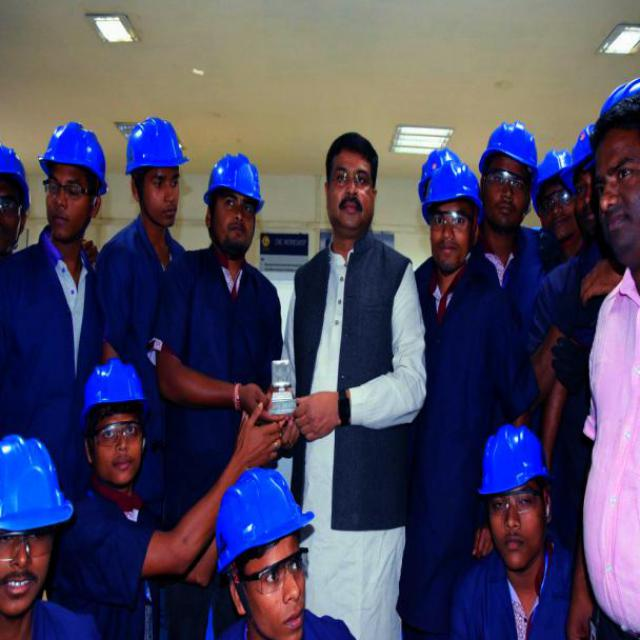helmet: (202, 455, 329, 639), (0, 421, 69, 634), (473, 423, 558, 583), (395, 131, 481, 280), (77, 360, 160, 500), (197, 146, 271, 280), (34, 120, 113, 237), (472, 110, 543, 231), (538, 128, 602, 251), (124, 110, 184, 236), (0, 116, 46, 279)
